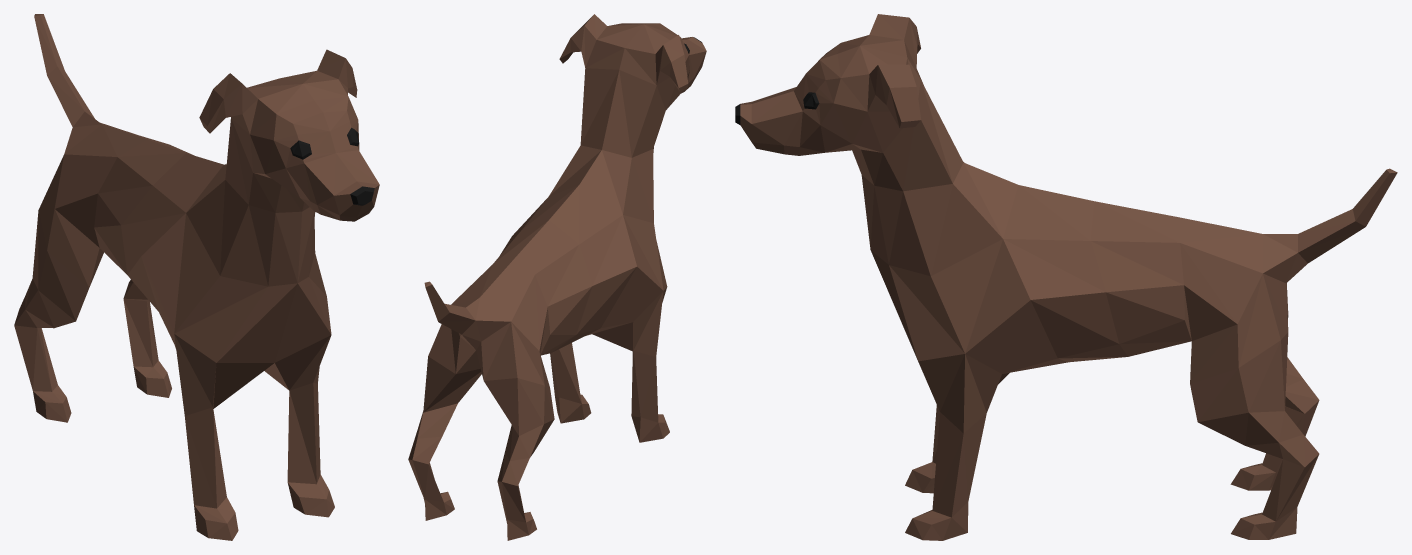
The model's file is dog.glb.
3 renders of one model, left to right at view 1: azimuth 30°, elevation 25°; view 2: azimuth 150°, elevation 25°; view 3: azimuth 270°, elevation 25°, orthographic. The views are drawn at different scales.
Parts seen in each view (by area): view 1: node-0; view 2: node-0; view 3: node-0.
Boxes of the visible parts, x1,y1,x2,y2 form: node-0: [14, 14, 379, 540]; node-0: [408, 14, 706, 540]; node-0: [735, 14, 1397, 540].
Size of the model in its own units: 173 by 506 by 646.
Materials: 1 (1 with a texture image).
